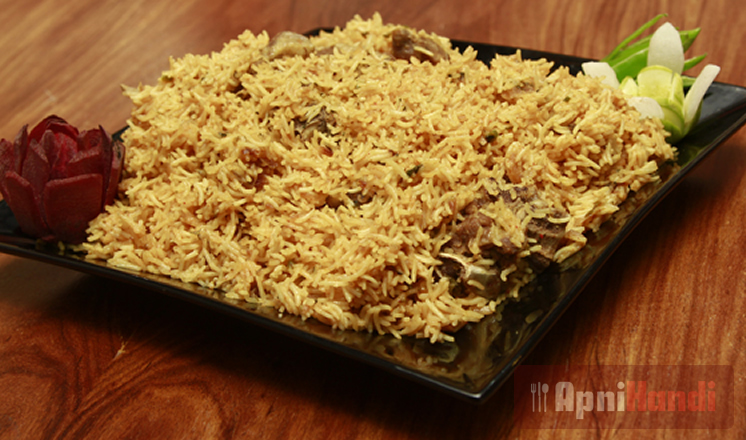rice: (101, 19, 653, 343)
